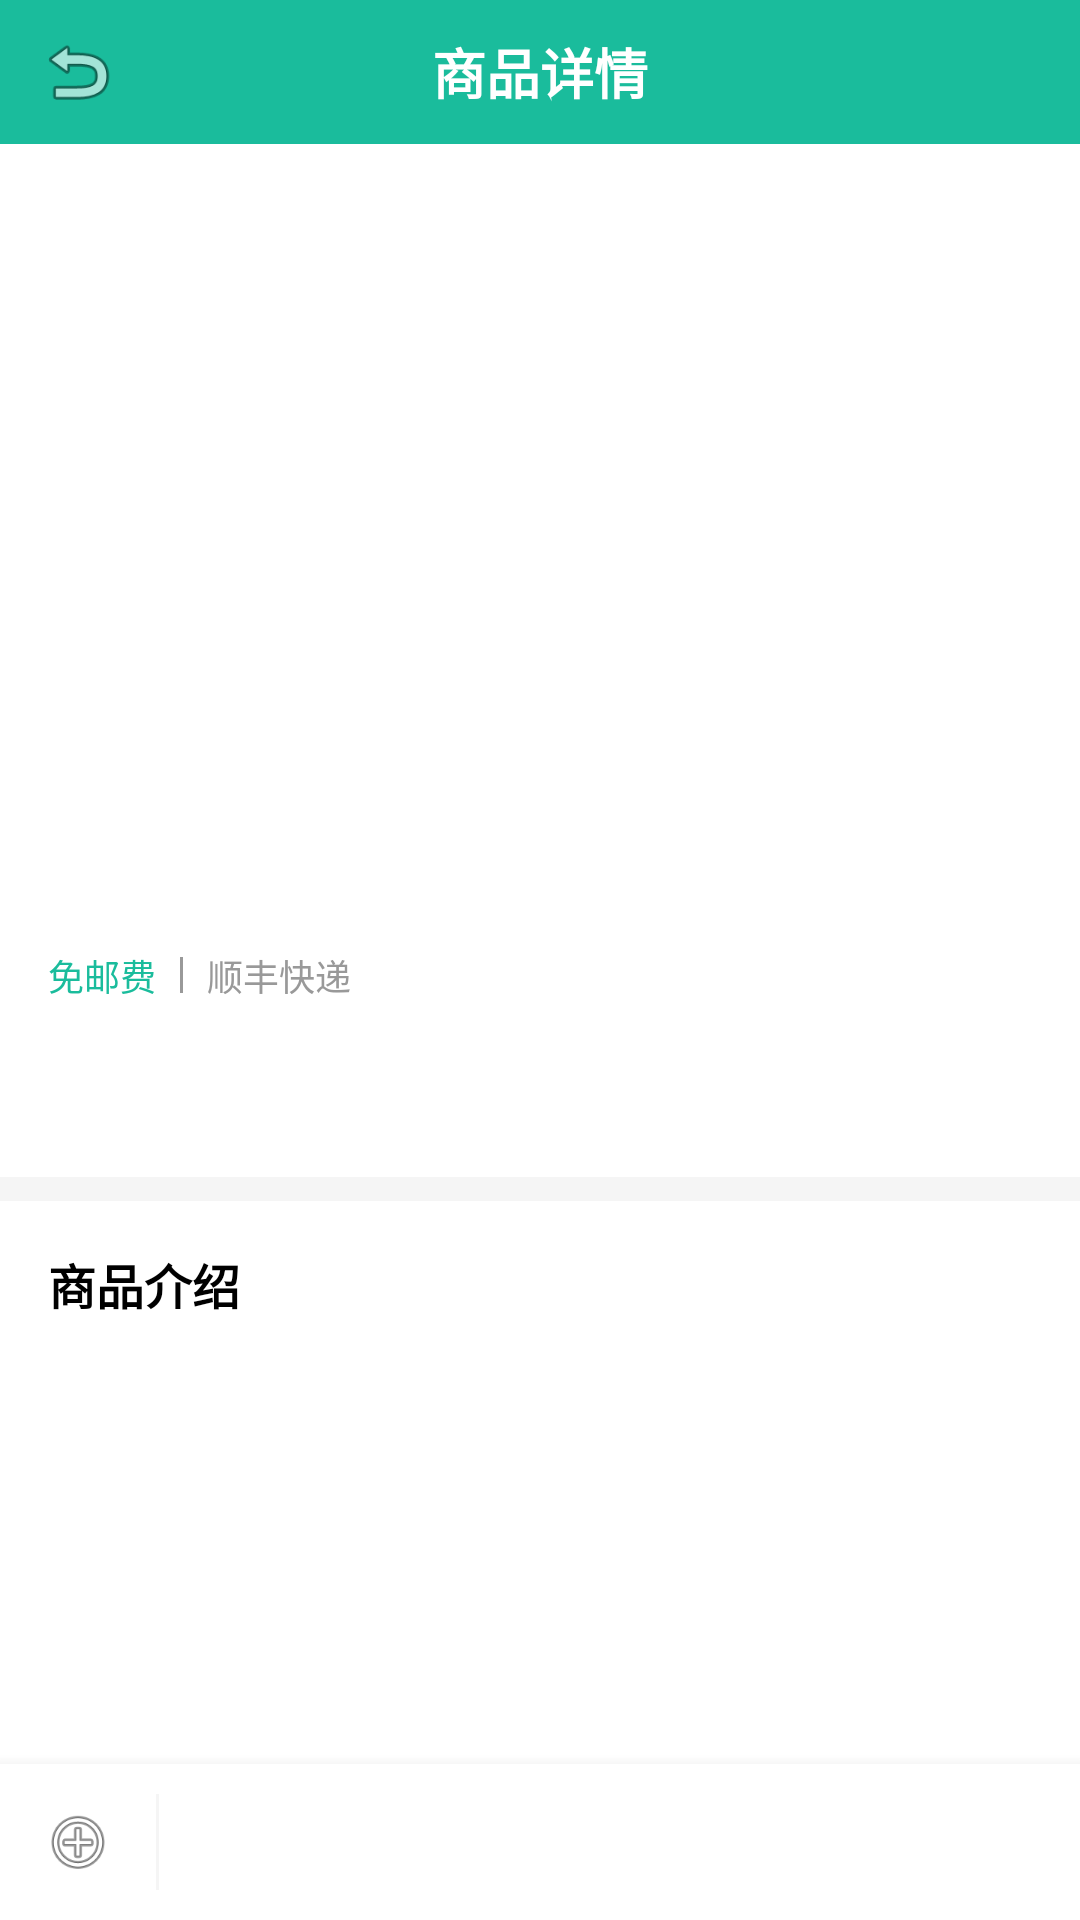

Named icons in this screenshot (1080 × 1920) and their bounding boxes, (x1, y1, x2, y2):
返回: (49, 45, 109, 100)
